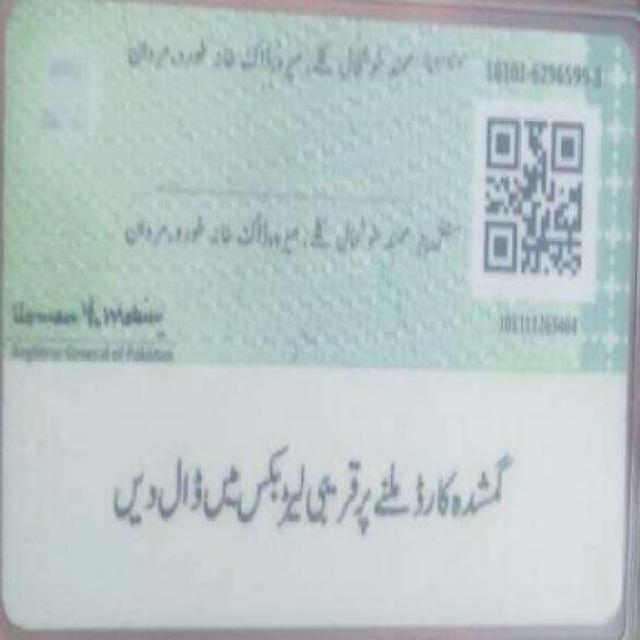Back: (0, 4, 626, 630)
